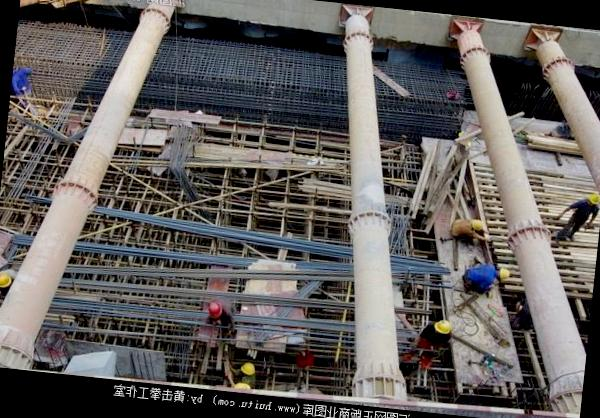helmet: (432, 315, 458, 340), (202, 296, 226, 323), (492, 266, 514, 286)
person: (544, 185, 600, 251)
